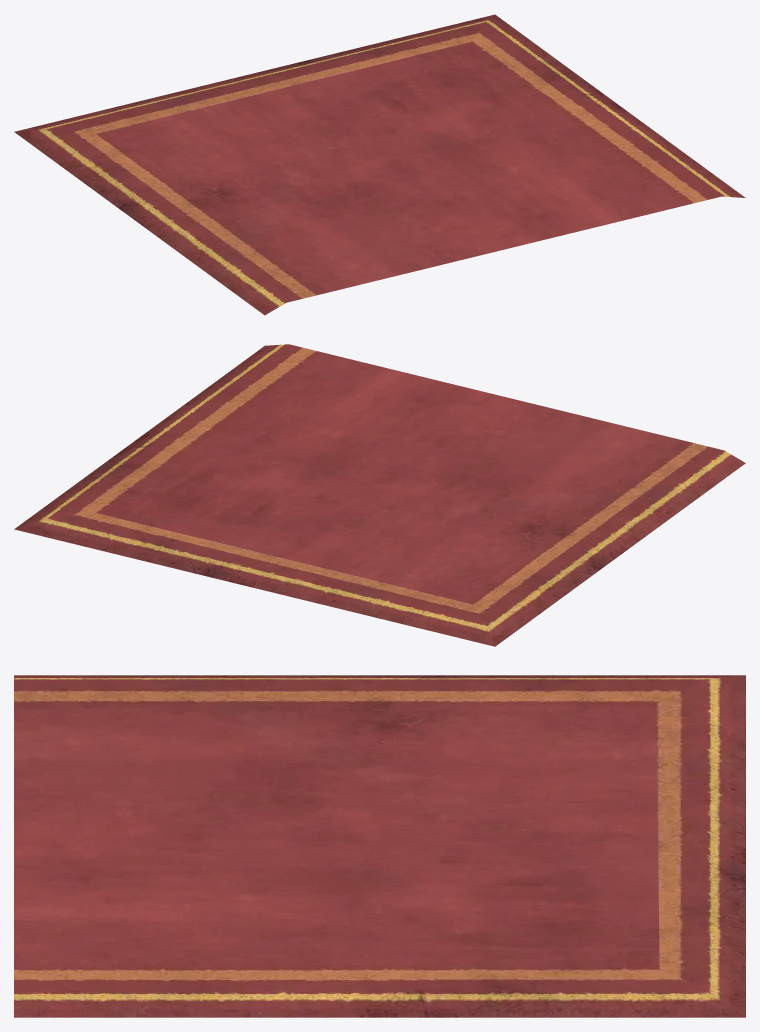
The picture shows the model from 3 angles, top to bottom: view 1: azimuth 30°, elevation 25°; view 2: azimuth 150°, elevation 25°; view 3: azimuth 270°, elevation 25°; orthographic projection. The views are drawn at different scales.
Parts seen in each view (by area): view 1: SM_DR_Rug_A_End_01_01_LOD0; view 2: SM_DR_Rug_A_End_01_01_LOD0; view 3: SM_DR_Rug_A_End_01_01_LOD0.
Part boxes in pixels (x1,y1,x2,y2): SM_DR_Rug_A_End_01_01_LOD0: (14,14,745,315); SM_DR_Rug_A_End_01_01_LOD0: (14,344,745,646); SM_DR_Rug_A_End_01_01_LOD0: (14,675,745,1017).
Bounding box in the file's own units: 2.24 × 0.033 × 2.02.
Materials: 1 (1 with a texture image).
